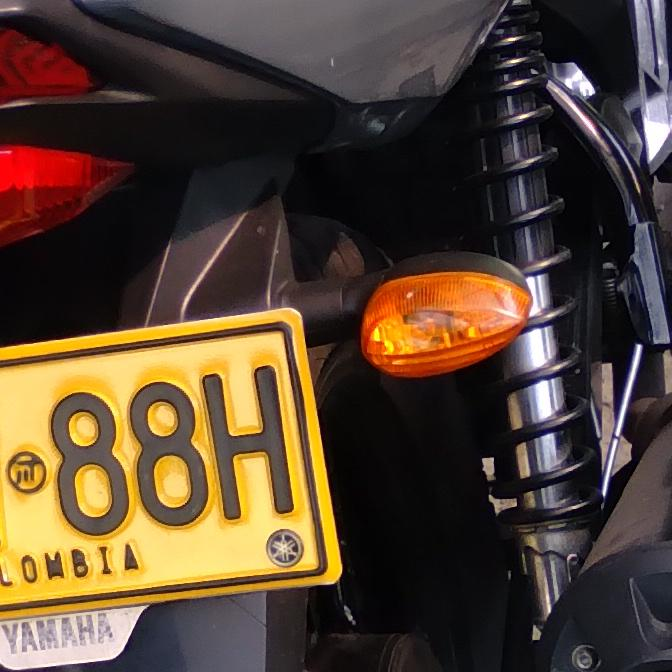plates: (0, 301, 345, 630)
